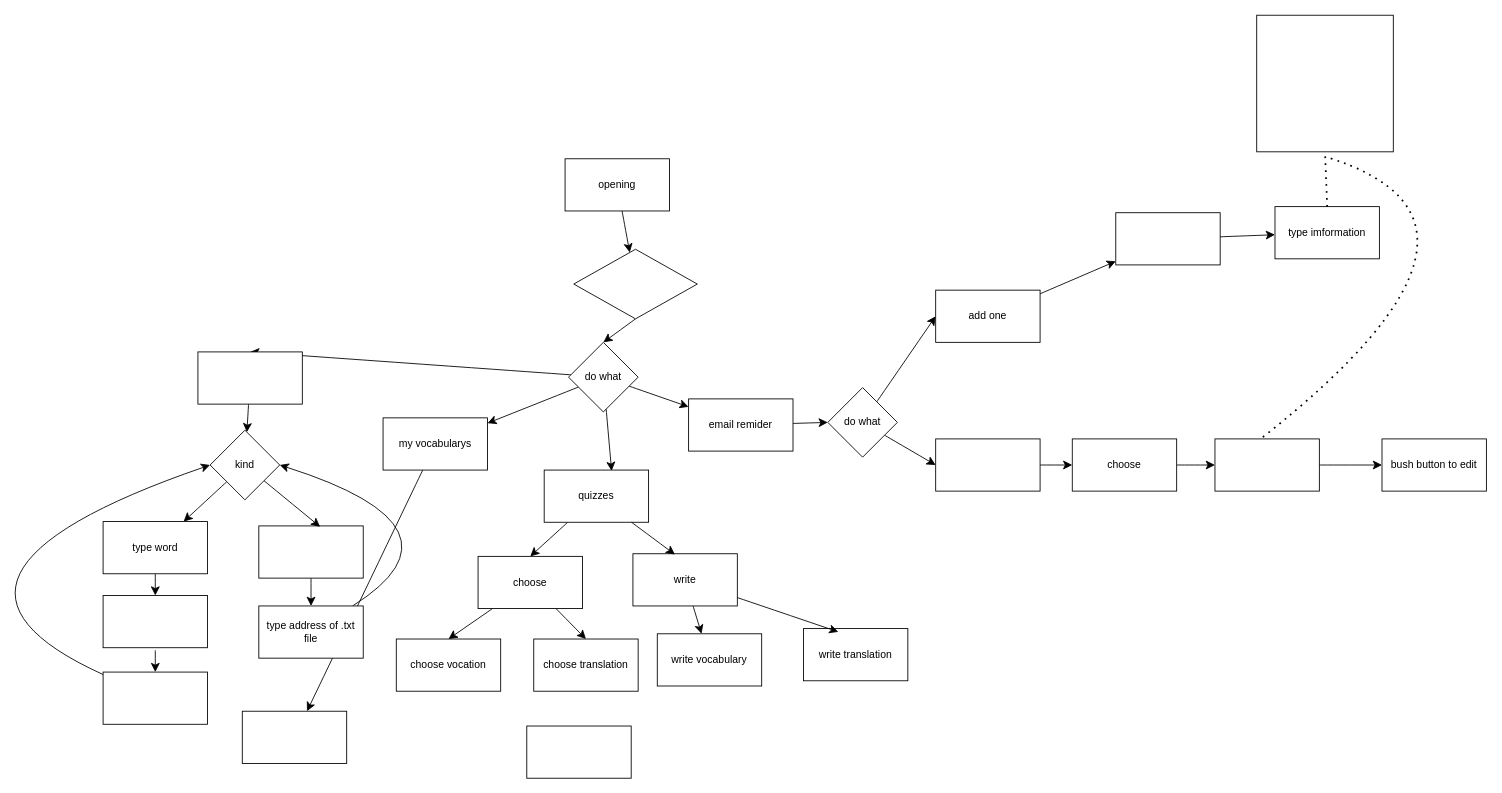
Some shapes in this 1502 by 793 pixel diagram are drawn without their labels. Here are the shapes that lost their labels. From the top down, the centre of each, then its label:
At pixel 1324 83: "1.email address 2.how often".
At pixel 1167 238: "type reminder name".
At pixel 635 283: "choose langrages".
At pixel 249 377: "add vocabulary".
At pixel 987 464: "edit one".
At pixel 1266 464: "show imformation of it".
At pixel 310 551: "import by txt".
At pixel 154 621: "type vocabulary".
At pixel 154 697: "type translation".
At pixel 294 736: "choose from file explorer".
